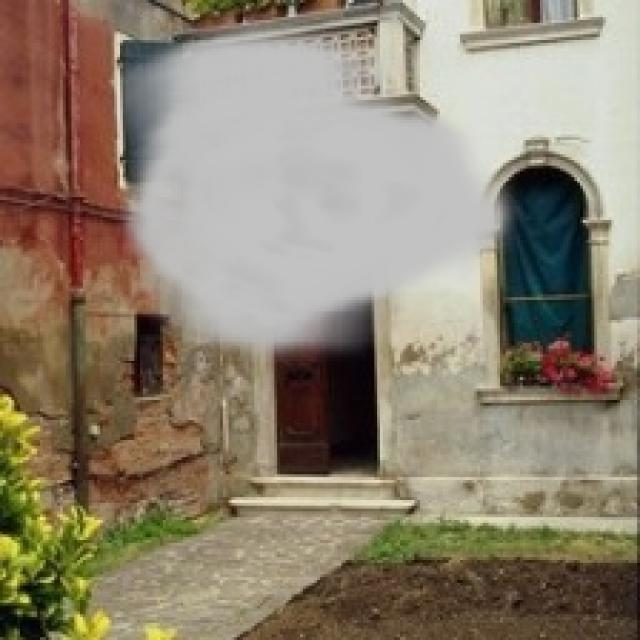smoke: (114, 23, 523, 368)
